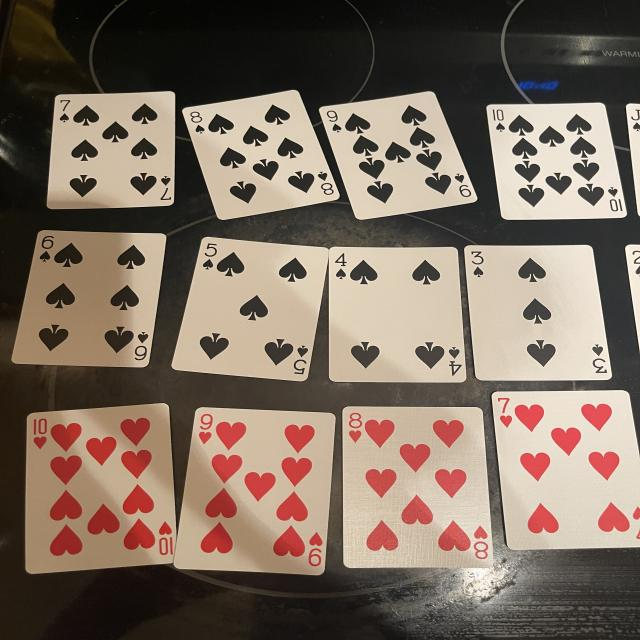10 of hearts: (25, 404, 175, 574)
10 of spades: (487, 102, 627, 220)
2 of spades: (625, 245, 640, 345)
3 of spades: (465, 245, 612, 380)
4 of spades: (328, 248, 467, 382)
5 of spades: (172, 238, 328, 381)
6 of spades: (12, 230, 167, 368)
7 of hearts: (492, 390, 640, 550)
7 of spades: (47, 91, 175, 209)
8 of hearts: (343, 406, 493, 568)
8 of spades: (183, 90, 340, 220)
9 of hearts: (173, 408, 335, 575)
9 of spades: (320, 91, 477, 220)
Jack of spades: (627, 104, 640, 215)
